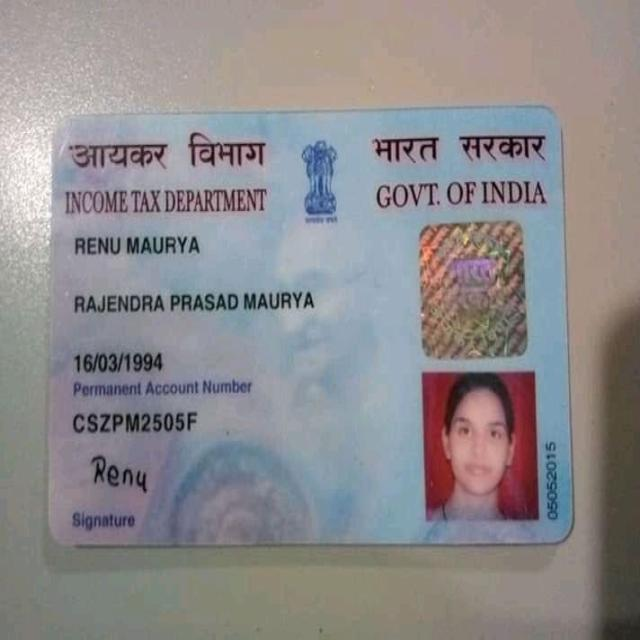pan_card: (52, 106, 573, 544)
